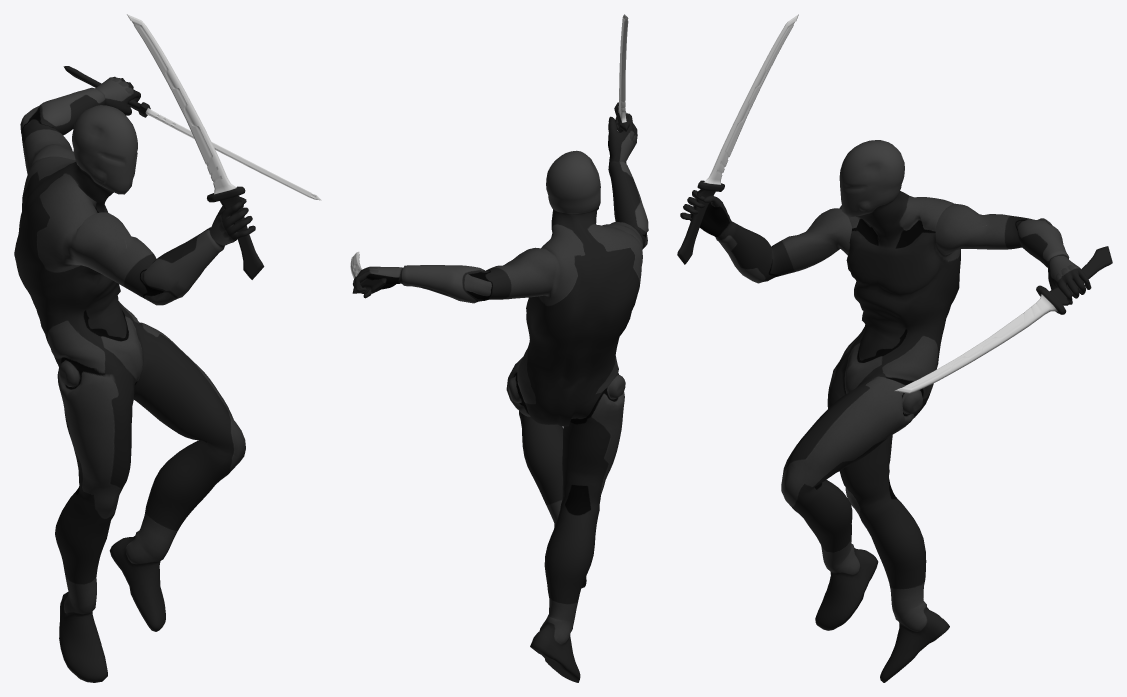
3 renders of one model, left to right at view 1: azimuth 30°, elevation 25°; view 2: azimuth 150°, elevation 25°; view 3: azimuth 270°, elevation 25°, orthographic. The views are drawn at different scales.
Parts seen in each view (by area): view 1: Cyborg_Ninja_Killer, Sword_l001, Sword_l; view 2: Cyborg_Ninja_Killer, Sword_l001, Sword_l; view 3: Cyborg_Ninja_Killer, Sword_l, Sword_l001.
Part boxes in pixels (left/top/right/bottom): Cyborg_Ninja_Killer: left=14, top=76, right=255, bottom=682; Sword_l001: left=126, top=14, right=264, bottom=279; Sword_l: left=63, top=66, right=321, bottom=200; Cyborg_Ninja_Killer: left=353, top=113, right=648, bottom=682; Sword_l001: left=614, top=14, right=629, bottom=163; Sword_l: left=350, top=251, right=386, bottom=293; Cyborg_Ninja_Killer: left=680, top=140, right=1091, bottom=682; Sword_l: left=894, top=246, right=1112, bottom=393; Sword_l001: left=677, top=14, right=798, bottom=264.
Bounding box in the file's own units: 104 × 233 × 140.
2 materials, 2 textured.
